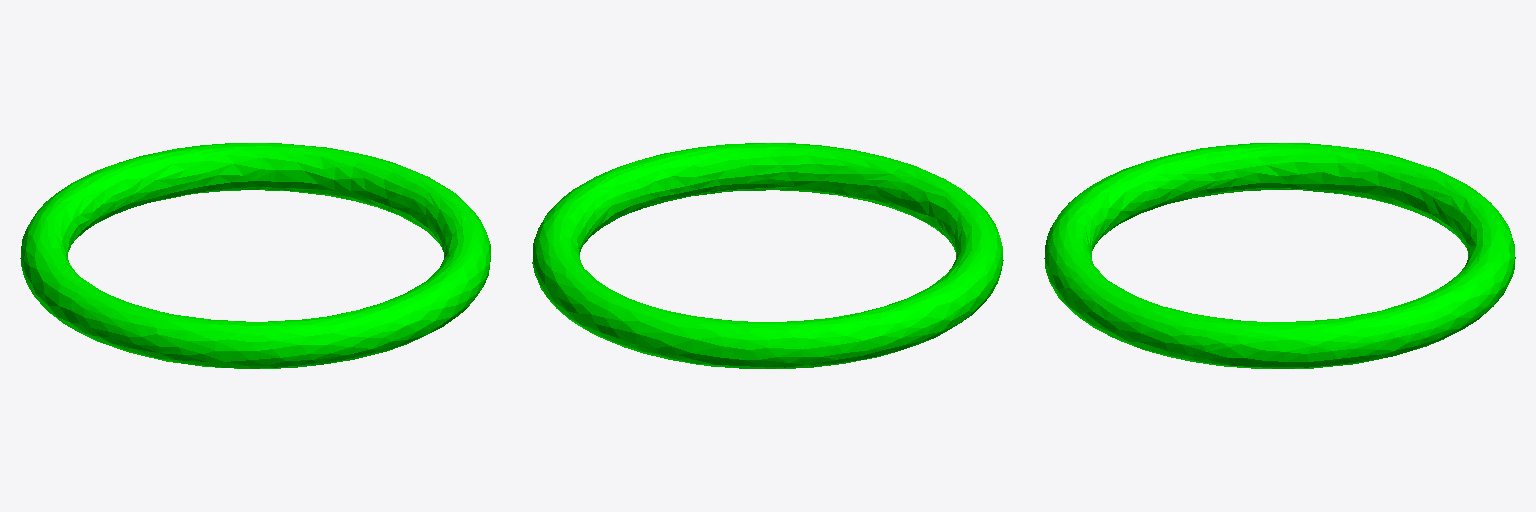
The robot description file, URDF, robot "physics 1":
<?xml version="1.0"?>
<robot  name="physics 1">
  <link name="ring_1">
    <visual>
      <origin rpy=" 0 0 0" xyz="0 0 0"/>
      <geometry>
        <mesh scale= "0.01 0.01 0.01" filename="Ring.obj"/>
      </geometry>
      <material name="green">
        <color rgba="0  1 0 44"/>
      </material>
    </visual>

    <inertial>
      <origin rpy="0 0 0" xyz="0 0 0"/>
      <mass value=".05"/>
      <inertia ixx="0" ixy="0.0" ixz="0.0" iyy="0.0" iyz="0.0" izz="0.0"/>
    </inertial>
  </link>
</robot>  

--- Facts derived from the render (not from the file) ---
3 views of the same robot in one strip: view 1: azimuth 30°, elevation 25°; view 2: azimuth 150°, elevation 25°; view 3: azimuth 270°, elevation 25° (orthographic).
Robot: physics 1 — 1 links, 0 joints (none); root link ring_1; default pose: every joint at zero.
Visible links, largest first — view 1: ring_1; view 2: ring_1; view 3: ring_1.
Link boxes in pixels (bbox=[...]): ring_1: bbox=[20, 143, 490, 368]; ring_1: bbox=[532, 143, 1003, 368]; ring_1: bbox=[1044, 143, 1515, 368].
Size in the robot's own frame: 0.9998 by 0.999 by 0.1007 metres.
1 mesh visuals loaded from 1 distinct referenced files (1 OBJ).